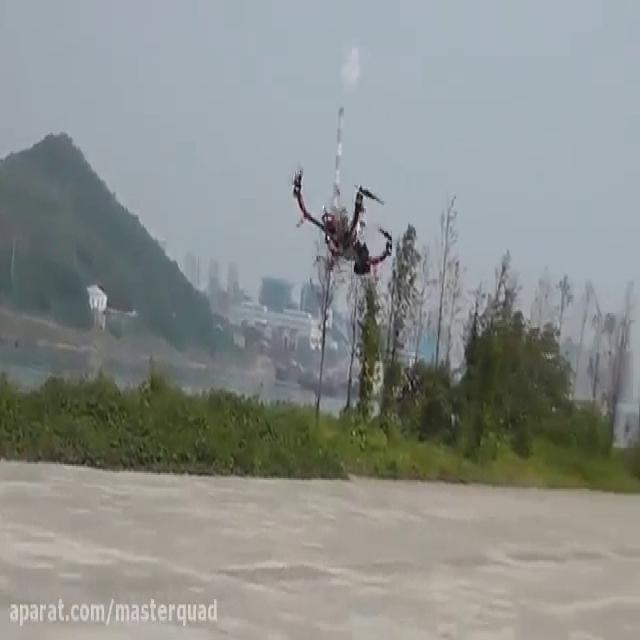drone: (287, 167, 394, 279)
